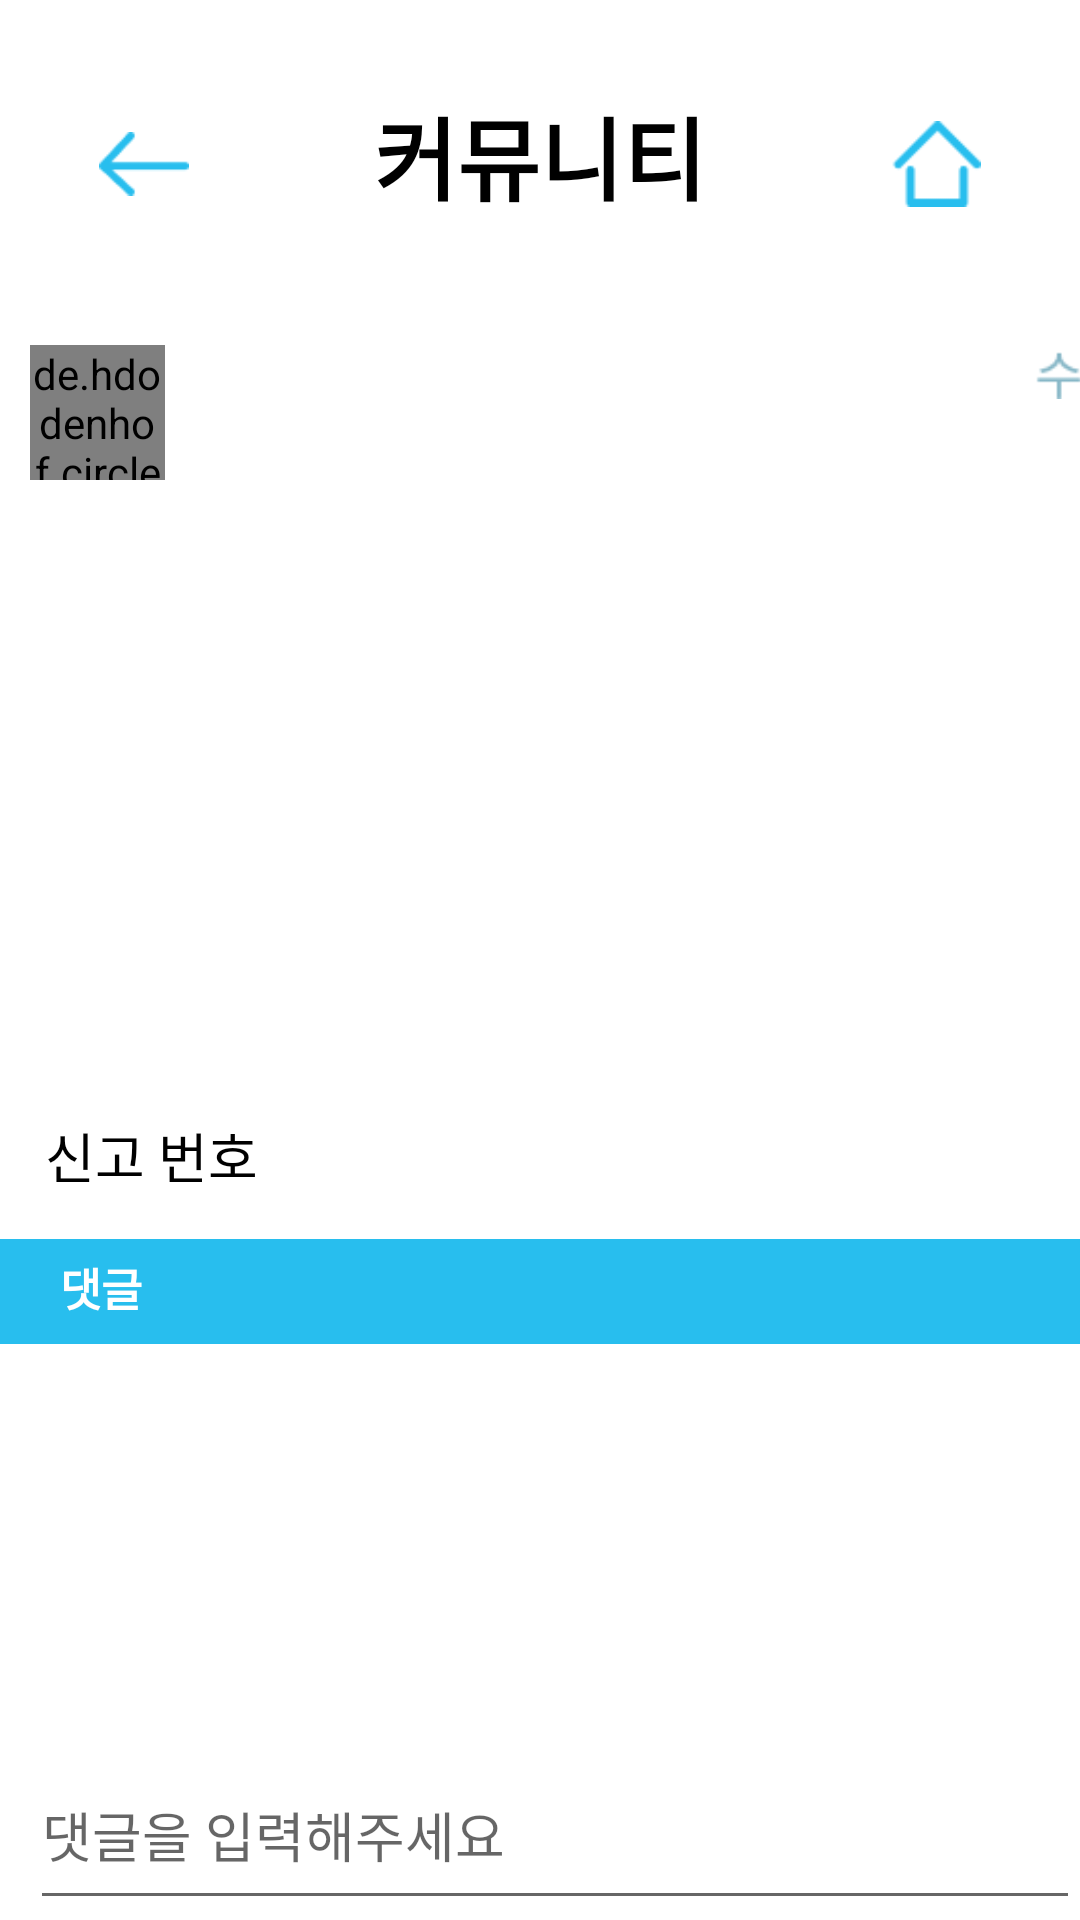

Screen size 1080 × 1920. Icon name, then its center in pixels as (x,y):
backbtn: (144,164)
homebtn: (937,164)
